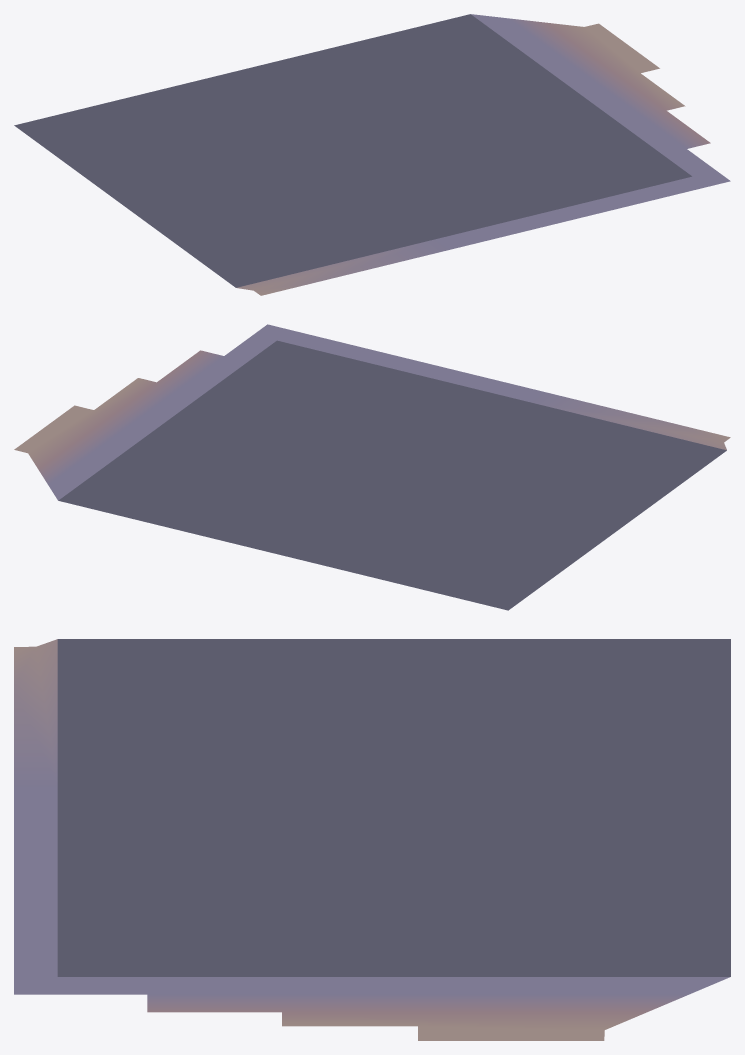
The picture shows the model from 3 angles, top to bottom: view 1: azimuth 30°, elevation 25°; view 2: azimuth 150°, elevation 25°; view 3: azimuth 270°, elevation 25°; orthographic projection. The views are drawn at different scales.
Parts seen in each view (by area): view 1: Joint_0_Object_0; view 2: Joint_0_Object_0; view 3: Joint_0_Object_0.
Part boxes in pixels (bbox=[...]): Joint_0_Object_0: bbox=[14, 14, 730, 295]; Joint_0_Object_0: bbox=[14, 324, 730, 610]; Joint_0_Object_0: bbox=[14, 639, 730, 1040].
Size of the model in its own units: 4520 by 1e-05 by 3408.
1 material, 1 textured.
